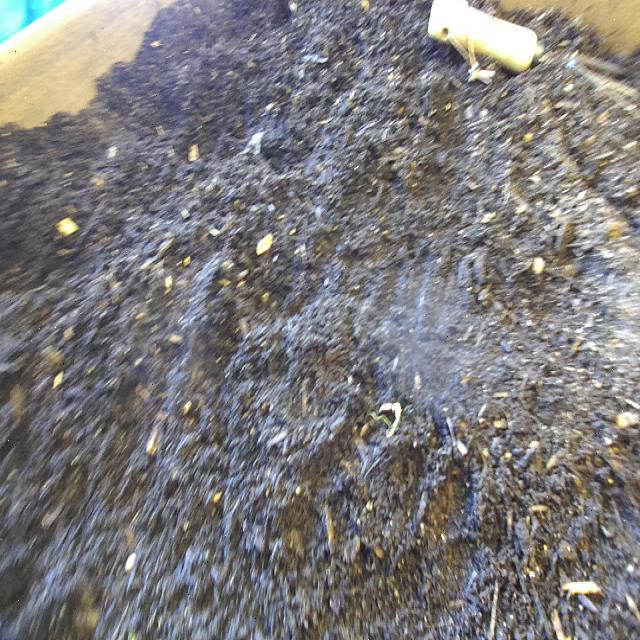Unhealthy: (352, 368, 416, 464)
